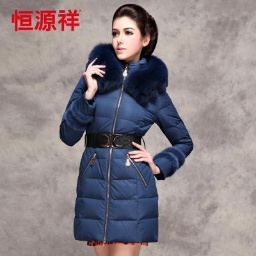face: (107, 2, 162, 65)
